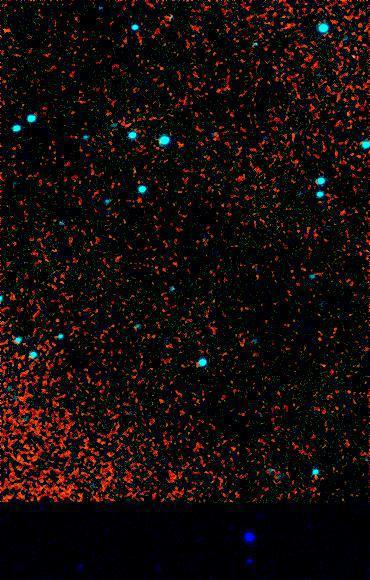star: (0, 12, 19, 42)
